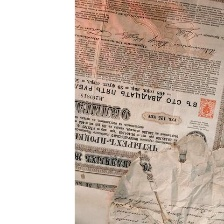news_paper: (72, 0, 224, 224)
